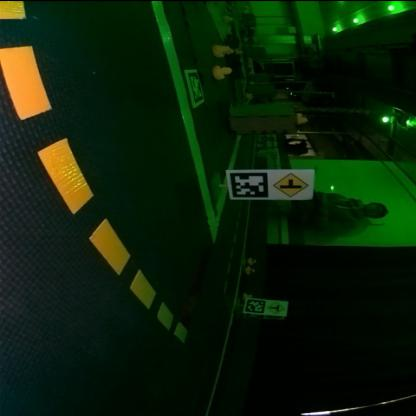Duckie: (214, 66, 233, 80), (214, 44, 230, 56), (297, 113, 309, 124), (249, 268, 255, 274), (252, 259, 258, 264), (247, 294, 252, 299)
Intersection sign: (276, 172, 310, 196), (267, 301, 287, 315)
QR code: (230, 172, 270, 198), (184, 68, 204, 108), (246, 298, 265, 314)
